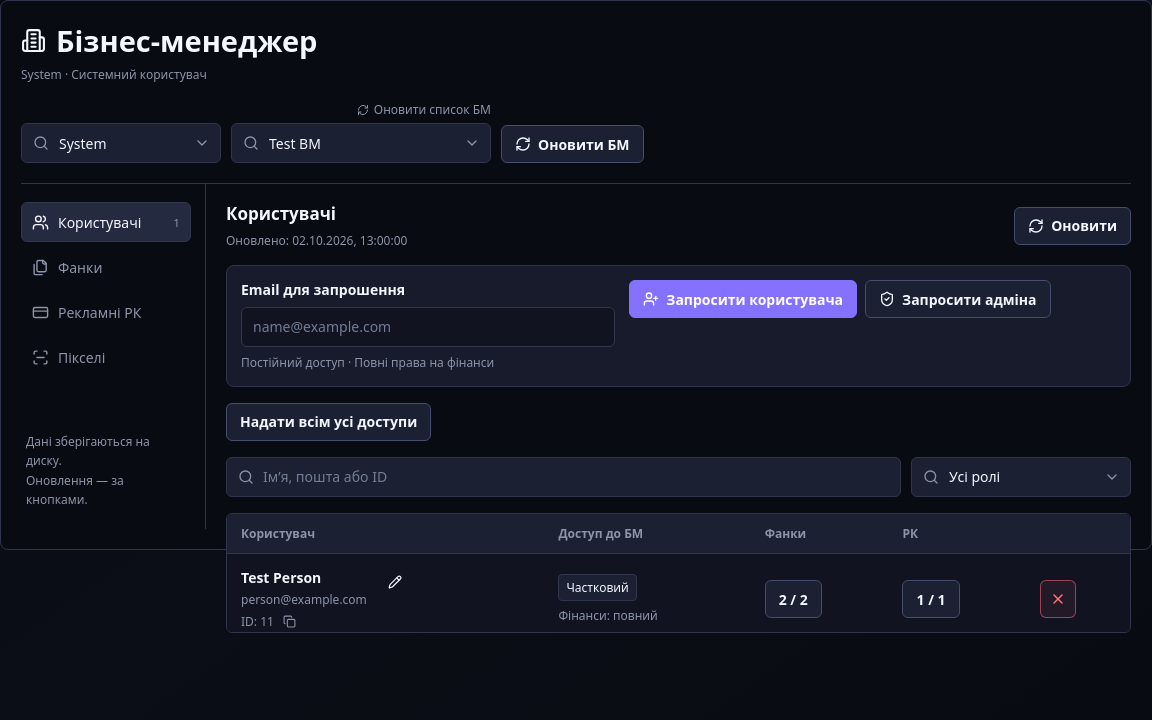
Scenario: БМ › перевіряє email та надсилає обрану роль
The width and height of the screenshot is (1152, 720).
Click the button "Запросити користувача" at point(743, 299), box [629,280,857,318]
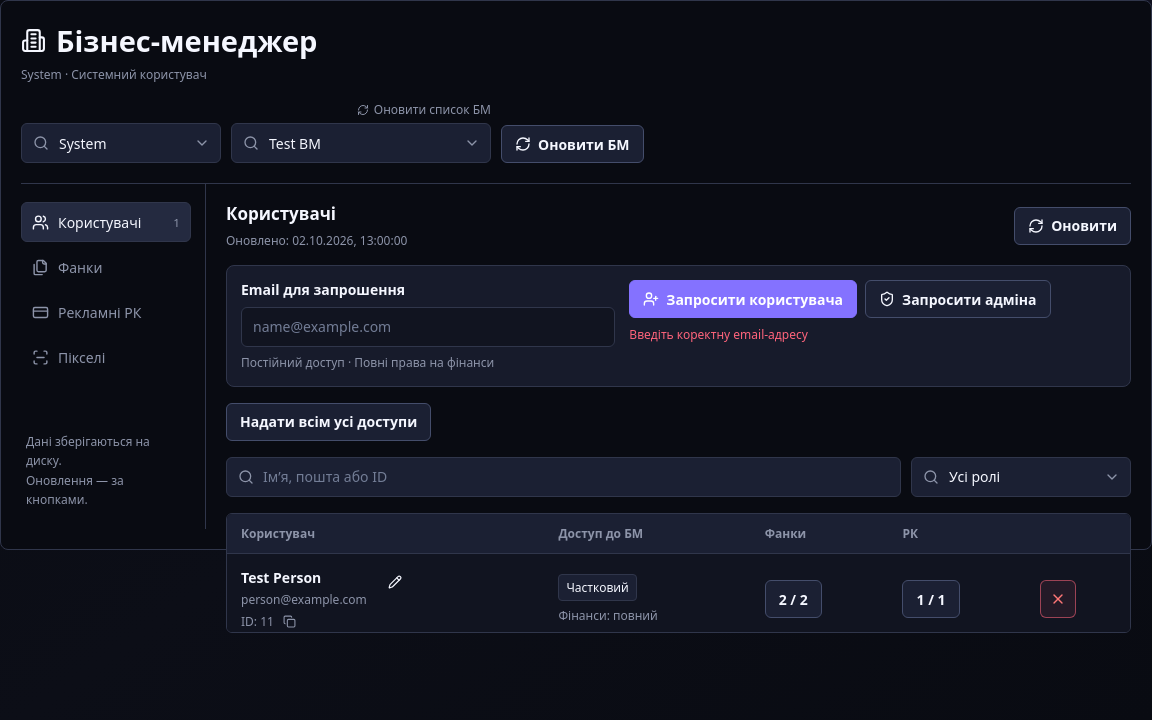
Expected: the text "Введіть коректну email-адресу" is shown, [629,326,808,343]
Type "admin@example.com" into the field labelled "Email для запрошення" at point(428, 327), box [241,307,615,347]
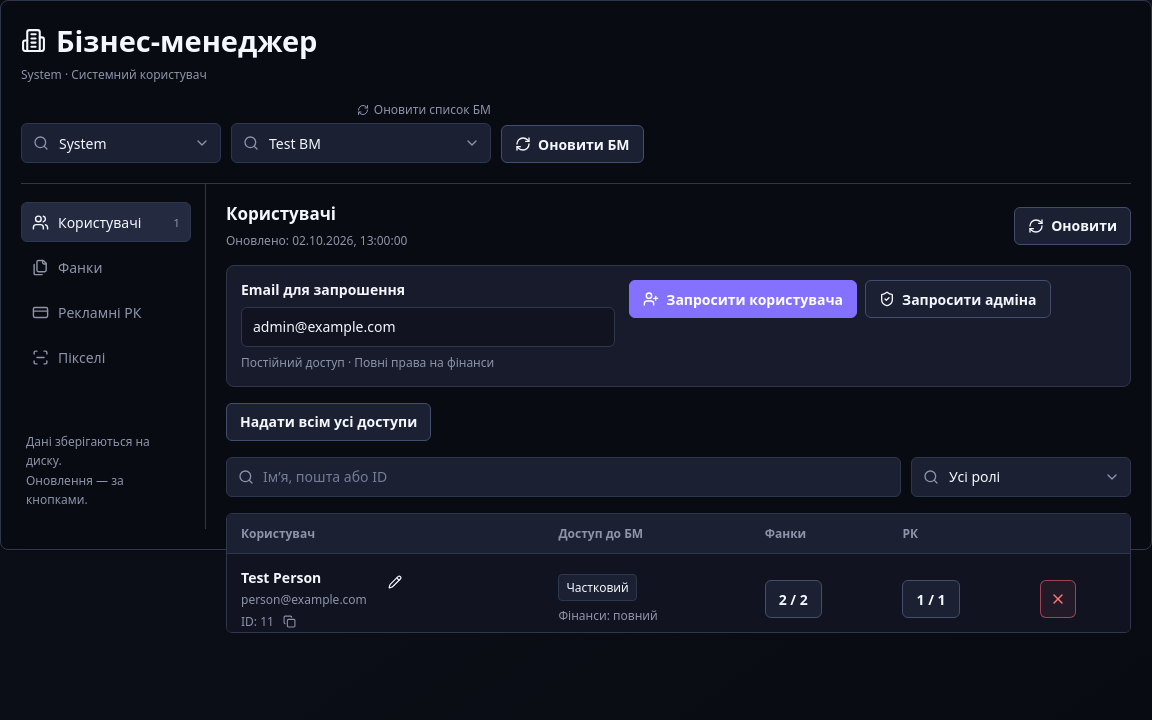
Click the button "Запросити адміна" at point(958, 299), box [865,280,1051,318]
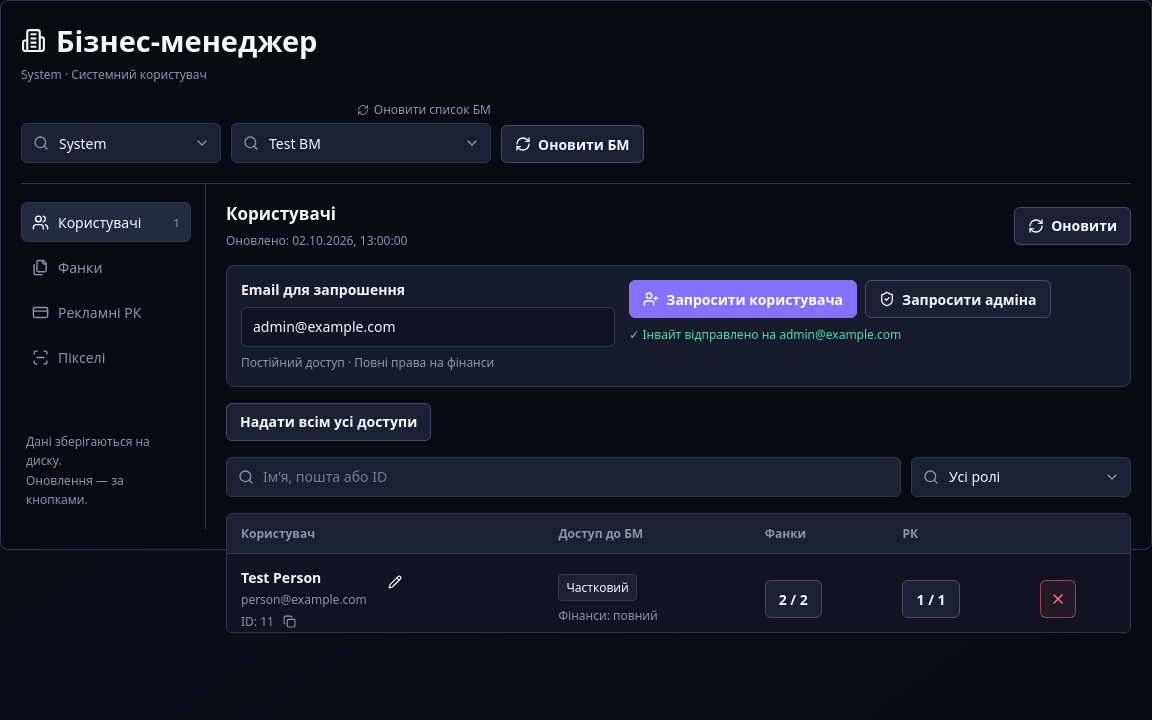
Expected: the text "✓ Інвайт відправлено на admin@example.com" is shown, [629,326,901,343]
